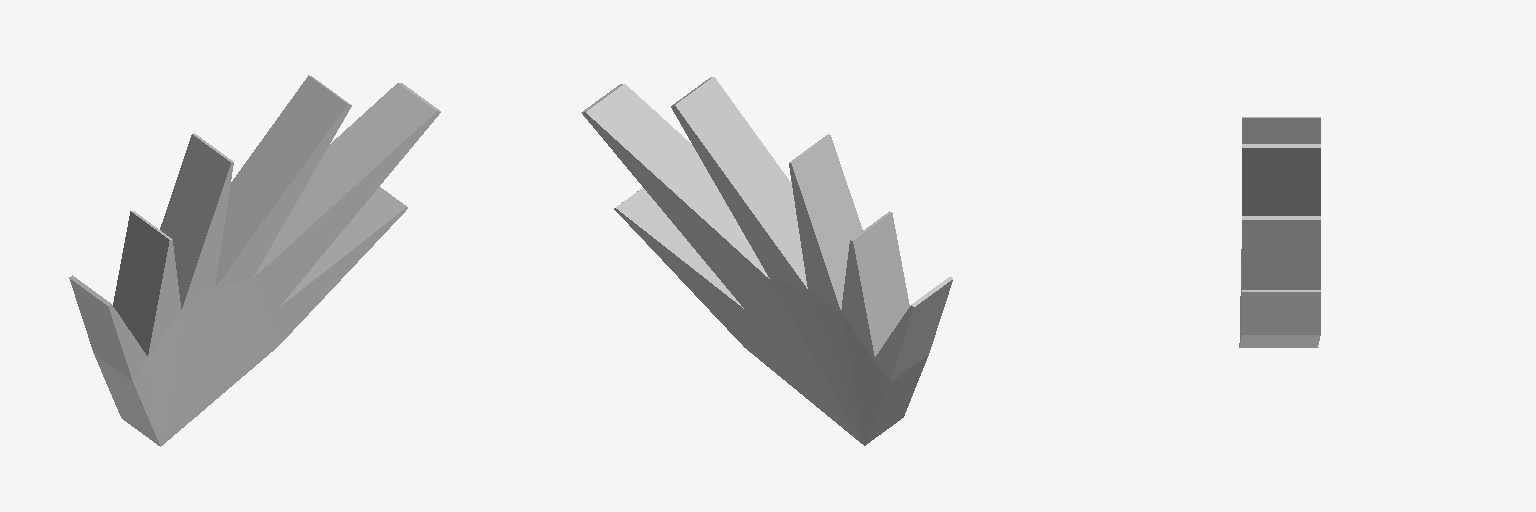
The model's file is roughIceSpikes.obj.
3 views of the same model, side by side, from view 1: azimuth 30°, elevation 25°; view 2: azimuth 150°, elevation 25°; view 3: azimuth 270°, elevation 25° (orthographic).
Visible parts, largest first — view 1: Cube; view 2: Cube; view 3: Cube.
Part boxes in pixels (x1,y1,x2,y2): Cube: (69, 75, 440, 446); Cube: (581, 77, 952, 445); Cube: (1239, 117, 1320, 347).
Bounding box in the file's own units: 2.64 × 2.24 × 0.5569.